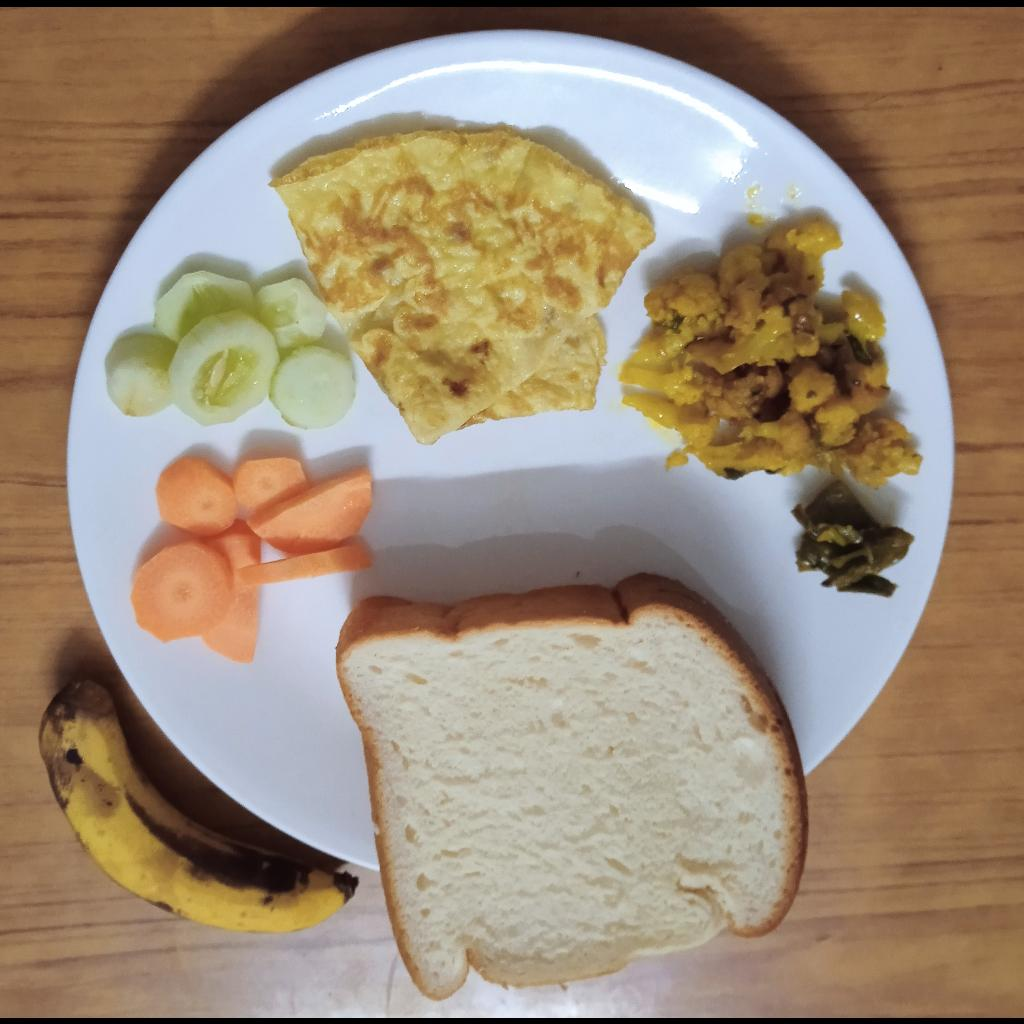banana: (40, 680, 359, 934)
bread: (336, 573, 810, 1000)
carrot: (130, 455, 374, 663)
cauliflower: (617, 220, 921, 490)
cucumber: (105, 269, 356, 430)
egg-poached: (268, 131, 656, 446)
shim: (790, 479, 915, 597)
